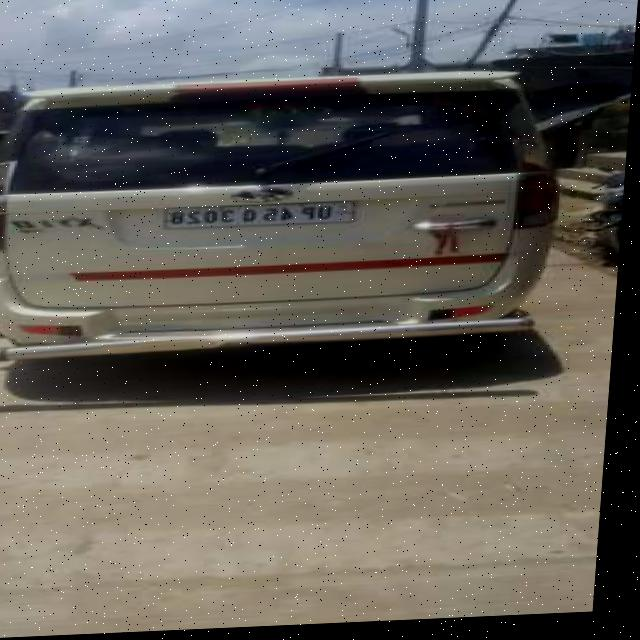plate: (164, 204, 361, 234)
